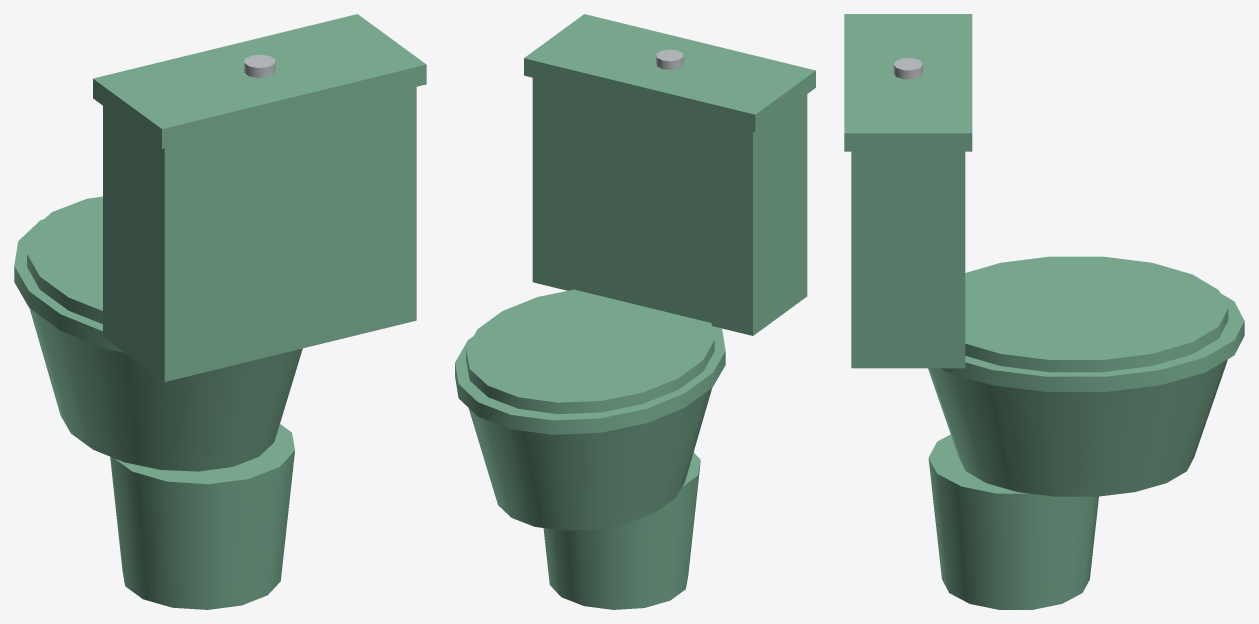
File: toilet-green.glb
3 views of the same model, side by side, from view 1: azimuth 30°, elevation 25°; view 2: azimuth 150°, elevation 25°; view 3: azimuth 270°, elevation 25° (orthographic). The views are drawn at different scales.
Visible parts, largest first — view 1: toilet-green; view 2: toilet-green; view 3: toilet-green.
Part boxes in pixels (x1=…): toilet-green: x1=14, y1=14, x2=426, y2=609; toilet-green: x1=455, y1=14, x2=815, y2=609; toilet-green: x1=844, y1=14, x2=1244, y2=609.
Bounding box in the file's own units: 0.42 × 0.8455 × 0.595.
